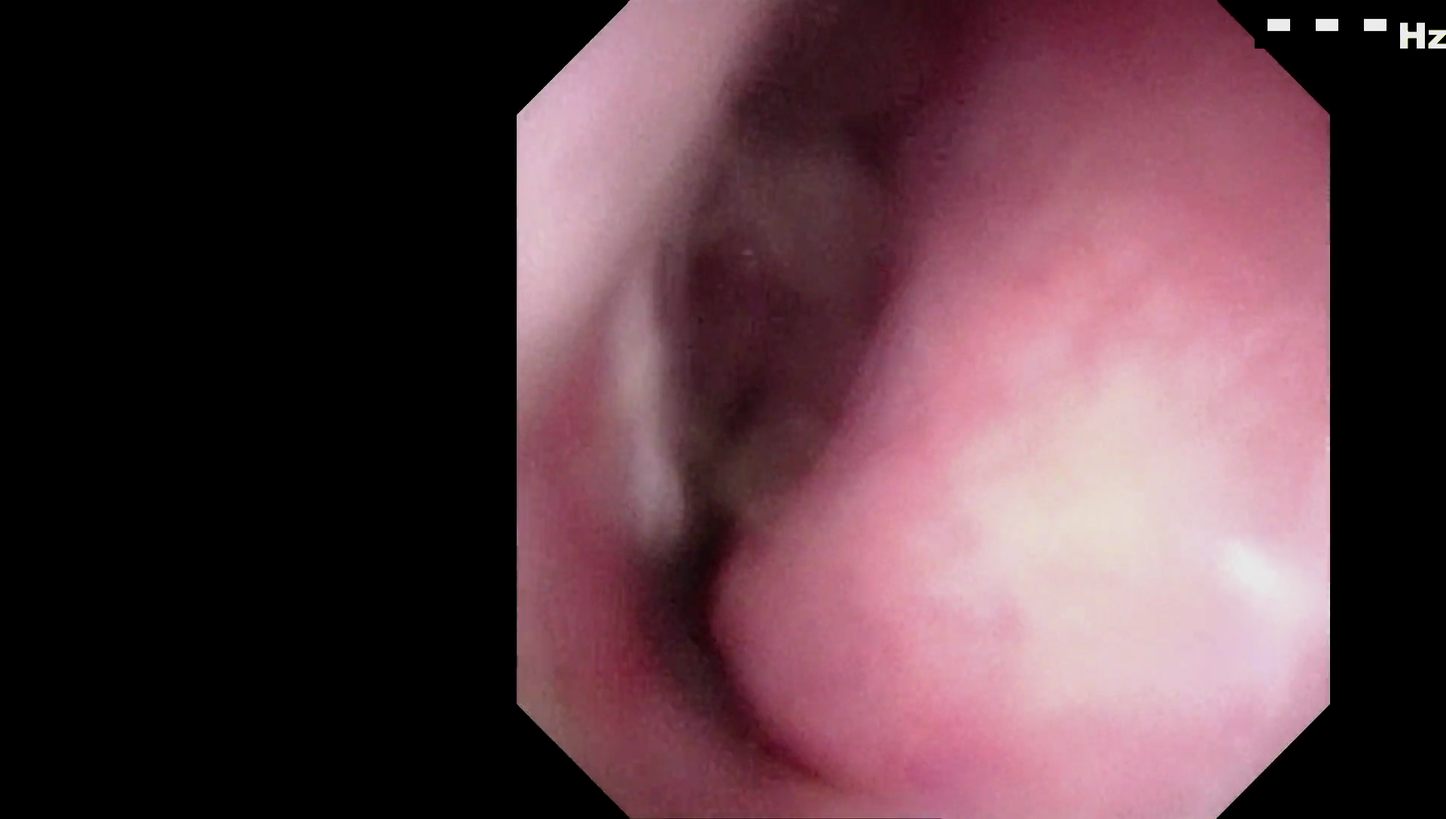close_wall: (888, 334, 1329, 736)
next: (620, 482, 836, 727)
